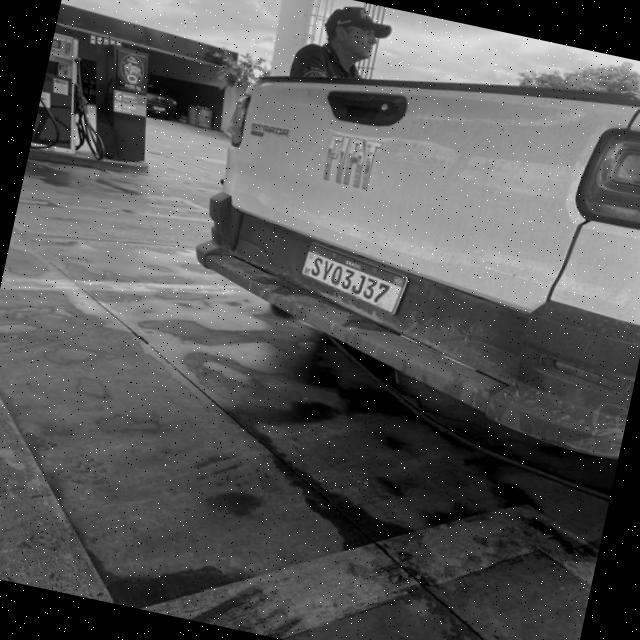placa_mercosul: (301, 242, 408, 315)
